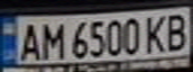0: (121, 15, 145, 55), (106, 17, 127, 56)
5: (87, 17, 109, 57)
6: (66, 18, 90, 58)
A: (15, 19, 45, 61)
B: (160, 10, 193, 52)
K: (142, 11, 172, 54)
M: (36, 19, 66, 60)
